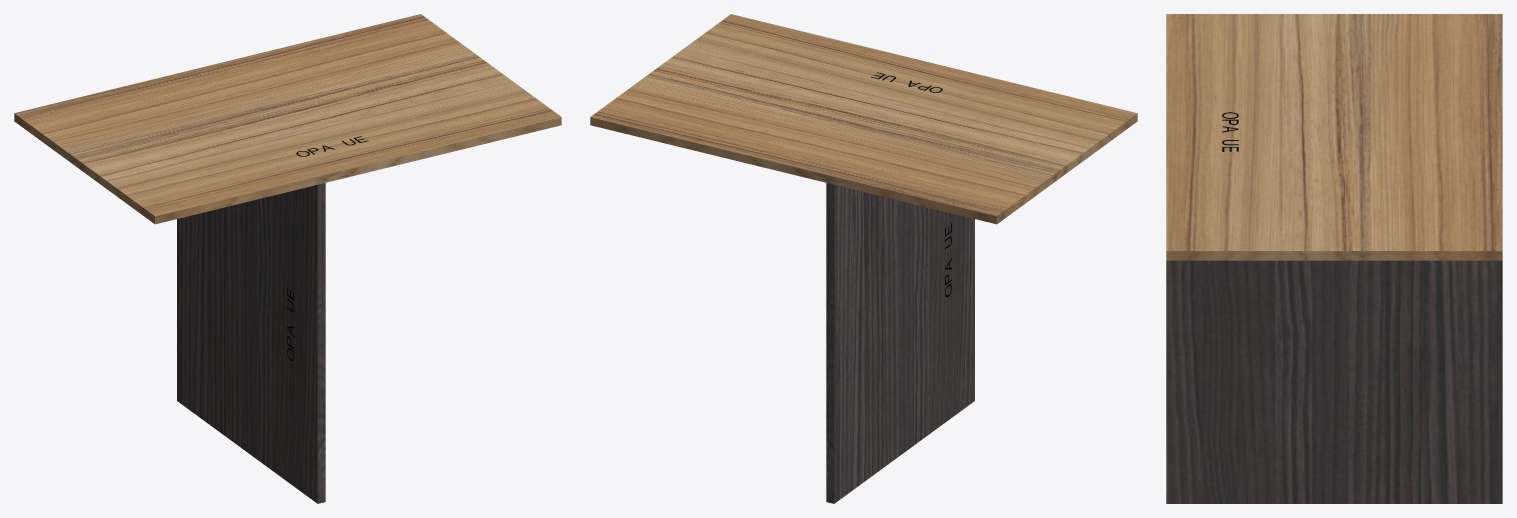
The model's file is twoParts-opaque.gltf.
3 renders of one model, left to right at view 1: azimuth 30°, elevation 25°; view 2: azimuth 150°, elevation 25°; view 3: azimuth 270°, elevation 25°, orthographic. The views are drawn at different scales.
Visible parts, largest first — view 1: {CD8E50AD-58D1-4f17-9EB0-68D5A75361A8}_Node, {BE013F76-4501-4445-8FA5-1BCB772F9A65}_Node; view 2: {CD8E50AD-58D1-4f17-9EB0-68D5A75361A8}_Node, {BE013F76-4501-4445-8FA5-1BCB772F9A65}_Node; view 3: {CD8E50AD-58D1-4f17-9EB0-68D5A75361A8}_Node, {BE013F76-4501-4445-8FA5-1BCB772F9A65}_Node.
Part boxes in pixels (x1,y1,x2,y2): {CD8E50AD-58D1-4f17-9EB0-68D5A75361A8}_Node: (14, 14, 561, 224); {BE013F76-4501-4445-8FA5-1BCB772F9A65}_Node: (177, 183, 325, 503); {CD8E50AD-58D1-4f17-9EB0-68D5A75361A8}_Node: (590, 14, 1137, 224); {BE013F76-4501-4445-8FA5-1BCB772F9A65}_Node: (826, 183, 974, 503); {CD8E50AD-58D1-4f17-9EB0-68D5A75361A8}_Node: (1166, 14, 1502, 260); {BE013F76-4501-4445-8FA5-1BCB772F9A65}_Node: (1166, 260, 1502, 503).
Size of the model in its own units: 1 by 0.7695 by 0.6.
4 materials, 2 textured.
